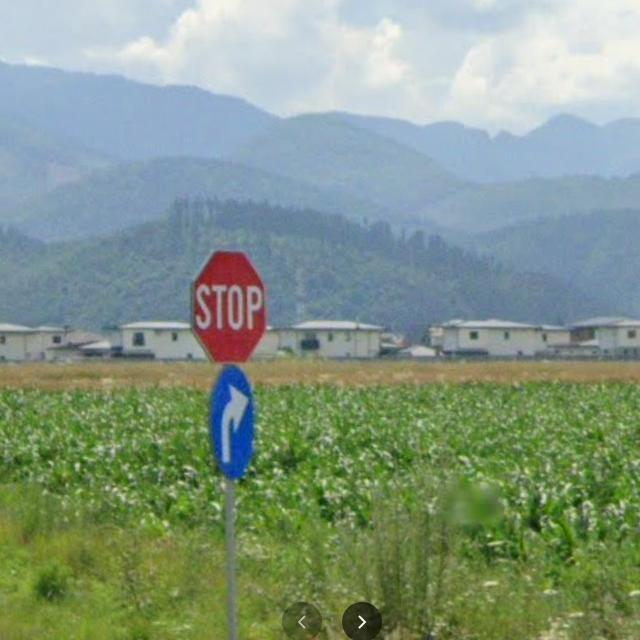prio_stop: (190, 250, 268, 363)
